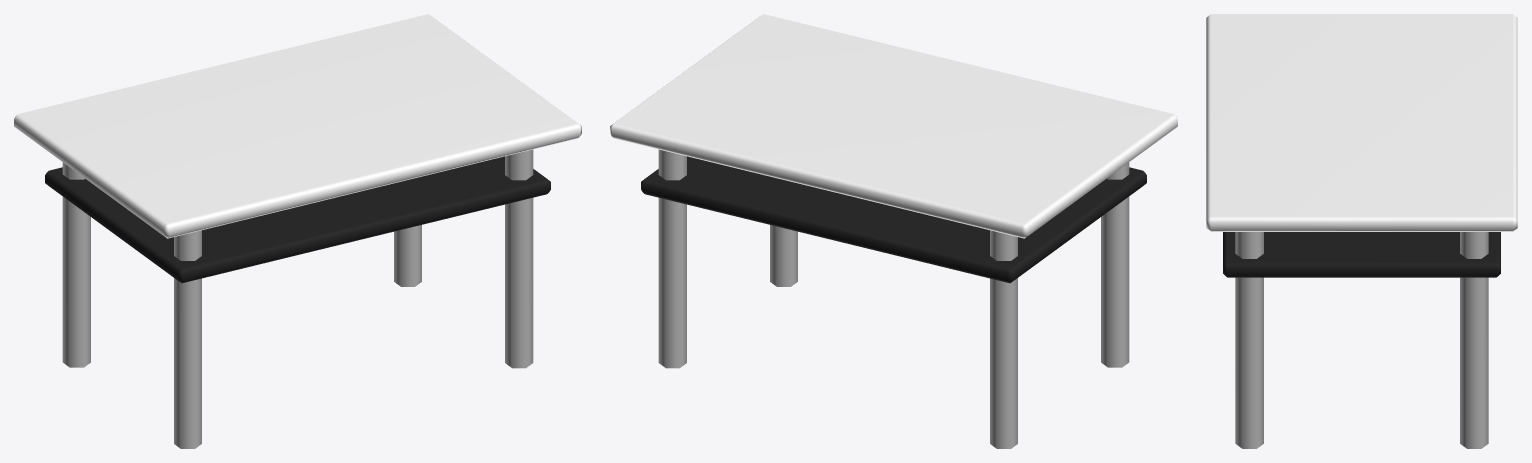
File: kitchen_table_015.fbx
3 views of the same model, side by side, from view 1: azimuth 30°, elevation 25°; view 2: azimuth 150°, elevation 25°; view 3: azimuth 270°, elevation 25° (orthographic).
Parts seen in each view (by area): view 1: kitchen_table_015; view 2: kitchen_table_015; view 3: kitchen_table_015.
Boxes of the visible parts, x1=… form: kitchen_table_015: x1=14, y1=14, x2=581, y2=448; kitchen_table_015: x1=610, y1=14, x2=1177, y2=448; kitchen_table_015: x1=1206, y1=14, x2=1517, y2=448.
Bounding box in the file's own units: 178 × 113 × 99.2.
